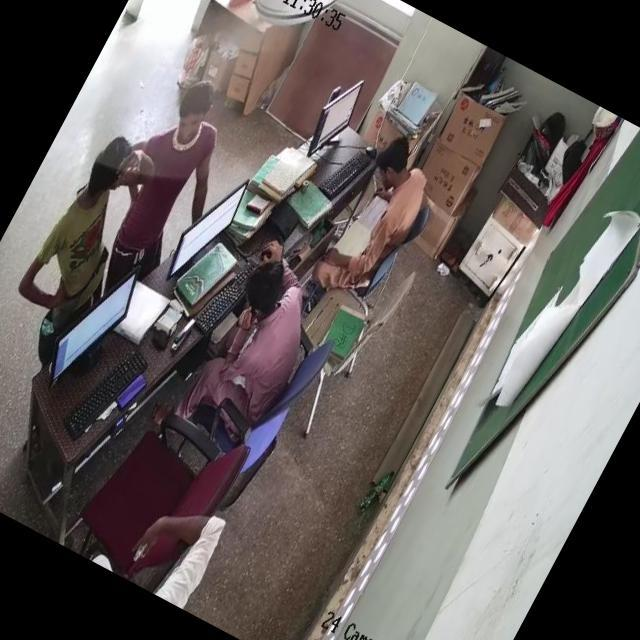person: (98, 78, 242, 278), (26, 142, 153, 313), (202, 244, 332, 406), (332, 130, 450, 282)
